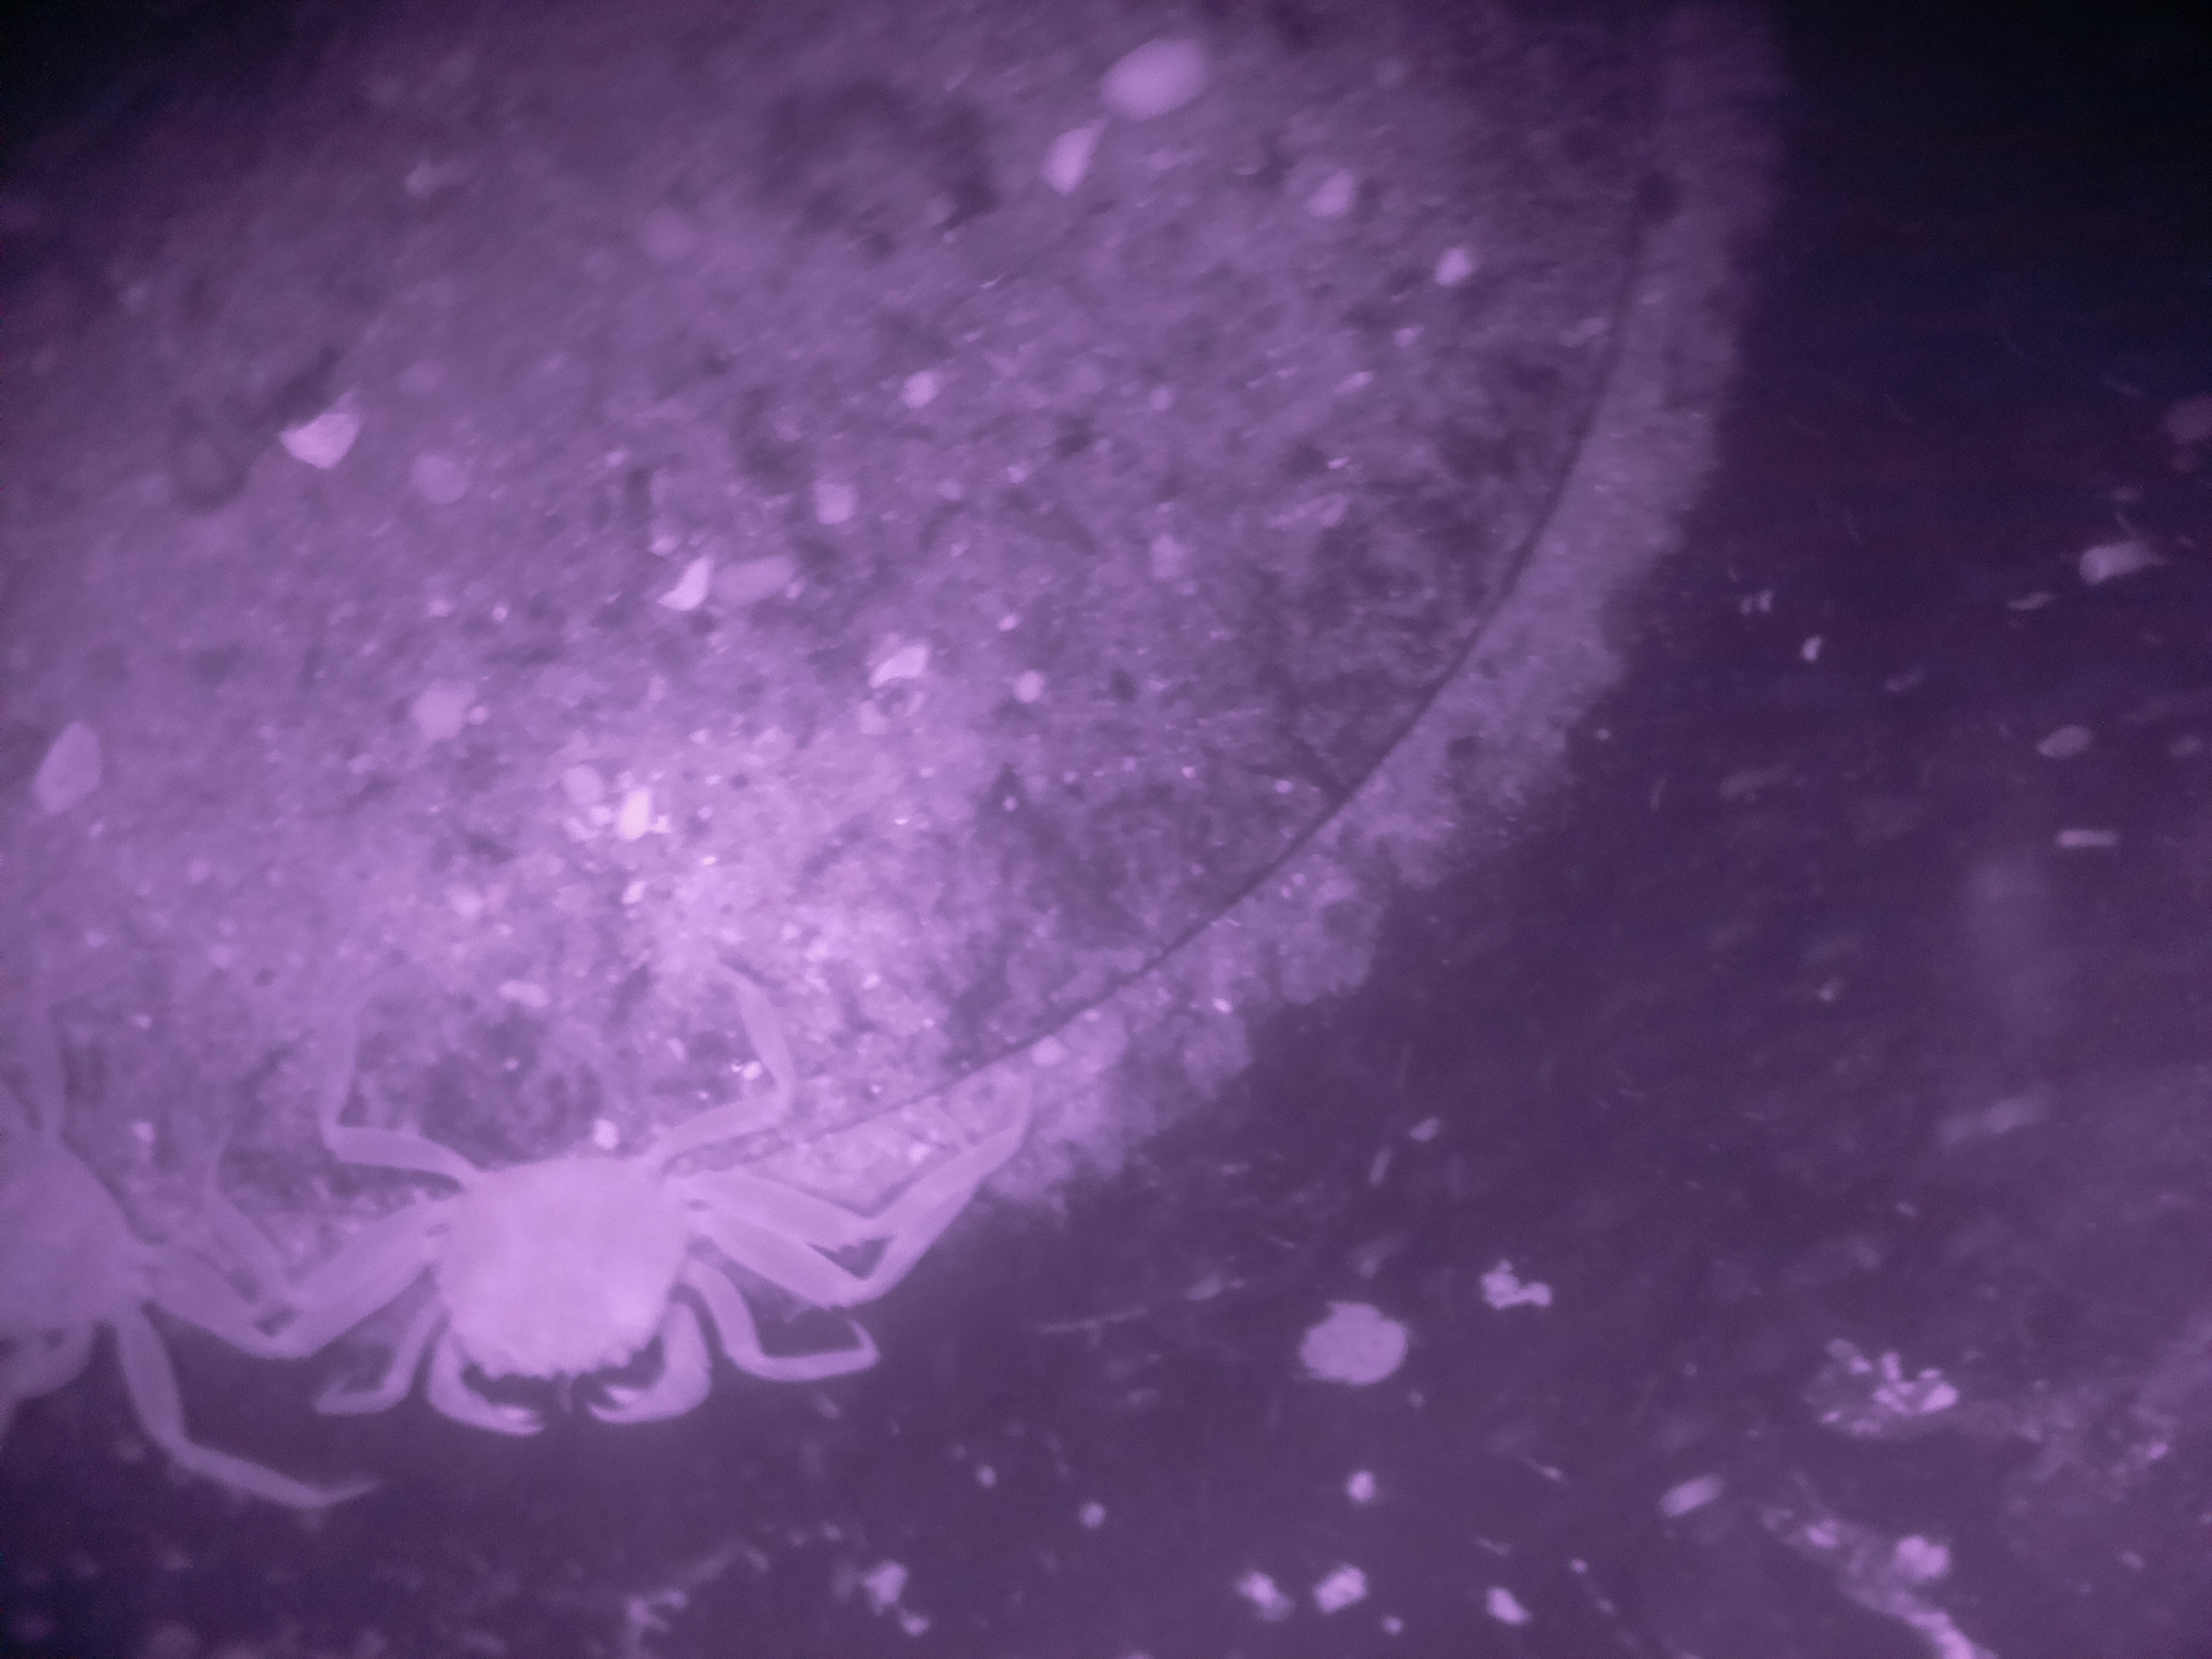Crab: (286, 1073, 806, 1483)
